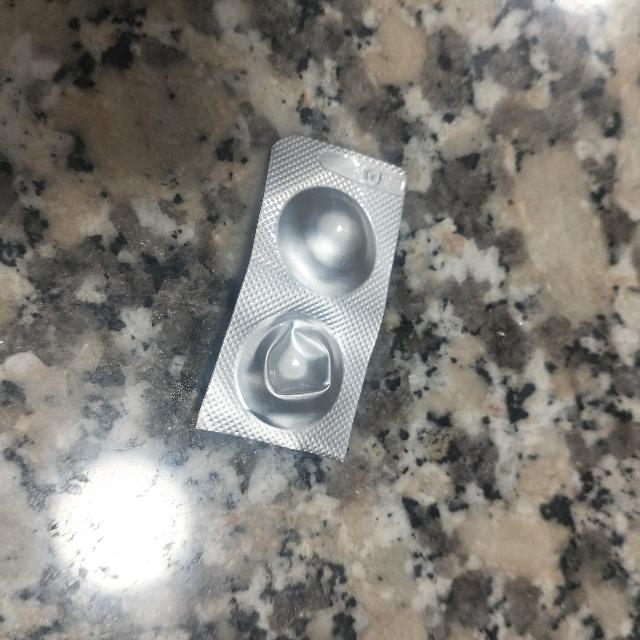blister: (194, 132, 410, 464)
